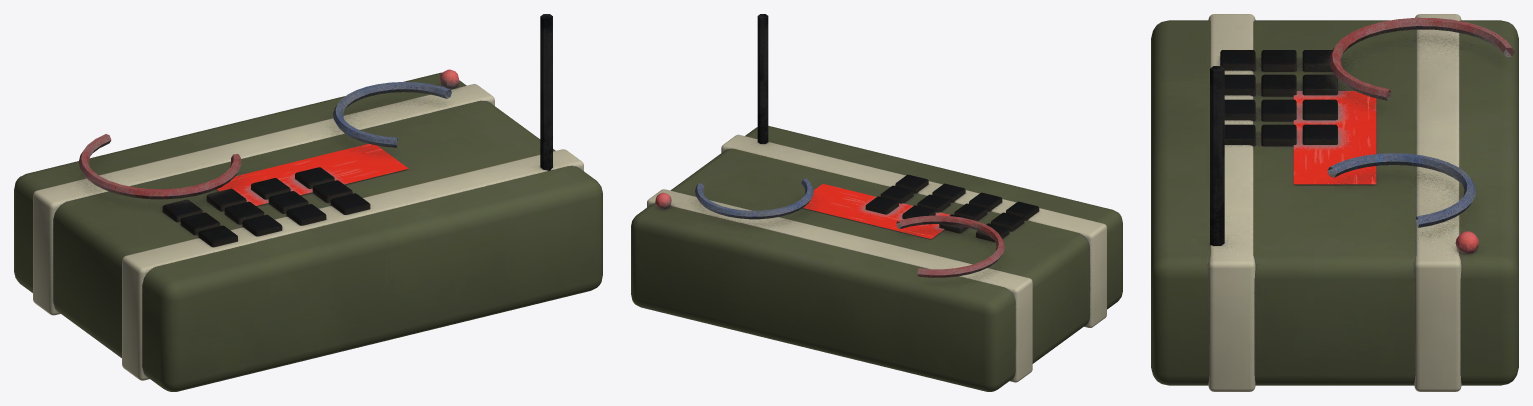
The picture shows the model from 3 angles, left to right: view 1: azimuth 30°, elevation 25°; view 2: azimuth 150°, elevation 25°; view 3: azimuth 270°, elevation 25°; orthographic projection. The views are drawn at different scales.
Visible parts, largest first — view 1: body_body, body_metal, body_receiver; view 2: body_body, body_metal, body_receiver; view 3: body_body, body_metal, body_receiver.
Boxes of the visible parts, x1,y1,x2,y2 form: body_body: (14, 72, 602, 391); body_metal: (33, 69, 583, 380); body_receiver: (540, 14, 552, 170); body_body: (631, 126, 1122, 391); body_metal: (647, 134, 1106, 382); body_receiver: (757, 14, 768, 143); body_body: (1151, 20, 1518, 385); body_metal: (1208, 14, 1514, 391); body_receiver: (1210, 66, 1224, 245).
Bounding box in the file's own units: 0.202 × 0.1145 × 0.125.
3 materials, 3 textured.
